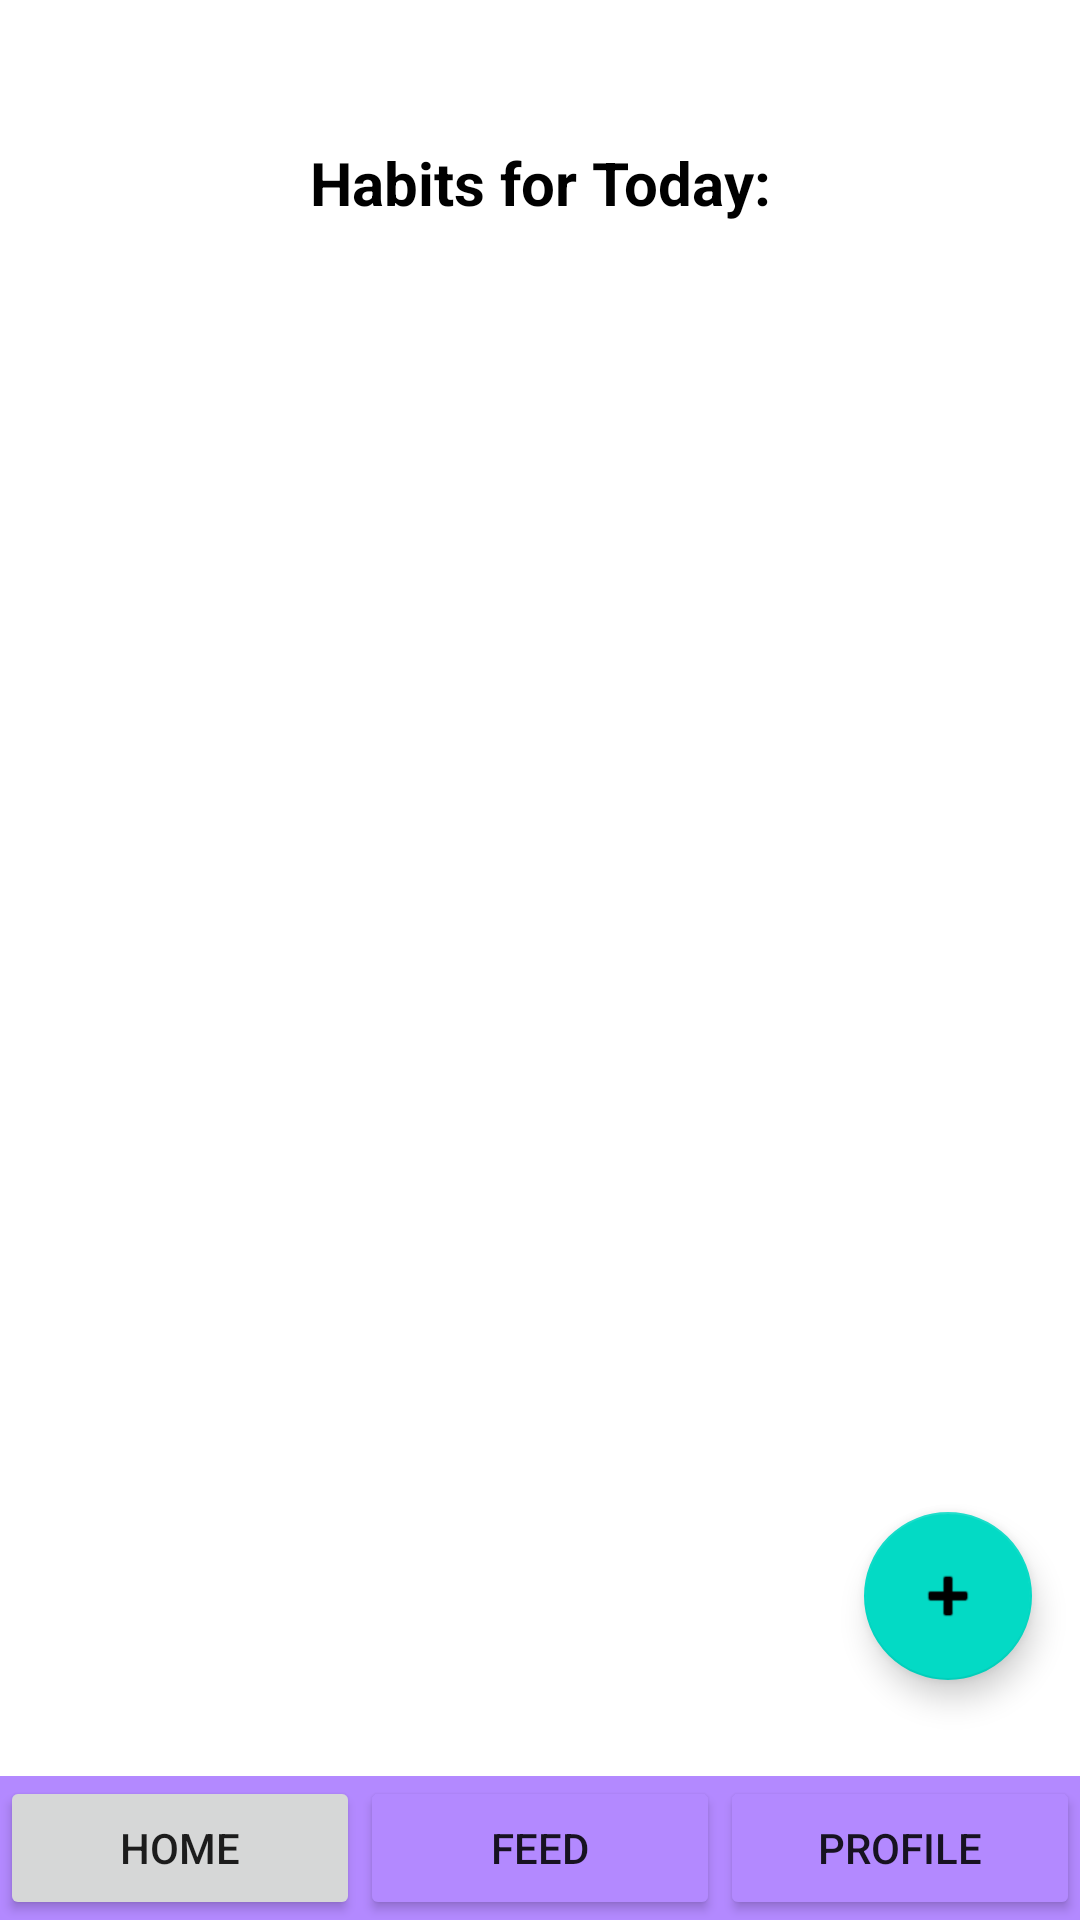

Locate icon controls on the screen. Image size 1080px x 1920px, boxes as (x1, y1, x2, y2).
add: (864, 1512, 1032, 1680)
